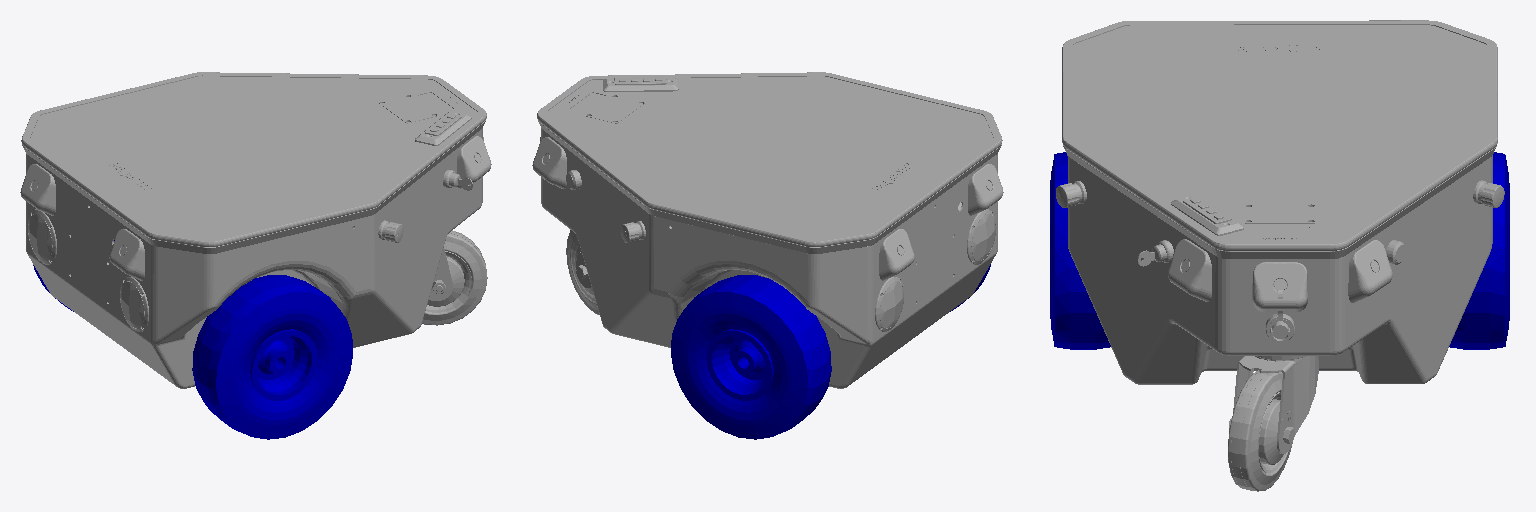
The robot description file, URDF, robot "gripper_2":
<?xml version="1.0"?>
<robot name="gripper_2" >

<!-- Materials -->

    <material name="Neobotix/Black">
        <color rgba="0.0 0.0 0.0 1.0"/>
    </material>

    <material name="Neobotix/Blue">
        <color rgba="0.0 0.0 0.8 1.0"/>
    </material>

    <material name="Neobotix/Green">
        <color rgba="0.0 0.8 0.0 1.0"/>
    </material>

    <material name="Neobotix/Grey">
        <color rgba="0.7 0.7 0.7 1.0"/>
    </material>

    <material name="Neobotix/Grey2">
        <color rgba="0.9 0.9 0.9 1.0"/>
    </material>

    <material name="Neobotix/Red">
        <color rgba="0.8 0.0 0.0 1.0"/>
    </material>

    <material name="Neobotix/White">
        <color rgba="1.0 1.0 1.0 1.0"/>
    </material>
    
    <material name="Neobotix/Yellow">
        <color rgba="1.0 1.0 0 10" />
    </material>

    <material name="Schunk/LightGrey">
        <color rgba="0.7 0.7 0.7 1.0"/>
    </material>

    <material name="Schunk/DarkGrey">
        <color rgba="0.4 0.4 0.4 1.0"/>
    </material>

    <material name="Schunk/Black">
        <color rgba="0.0 0.0 0.0 1.0"/>
    </material>

    <material name="Schunk/DarkGolden">
        <color rgba="0.4 0.4 0.3 1.0"/>
    </material>

    <material name="Schunk/Blue">
        <color rgba="0.0 0.0 0.8 1.0"/>
    </material>


<!--++++++++++++++++++++++++++++++base_link++++++++++++++++++++++++++++++++++++++++++++++++++++--> 
<!--++++++++++++++++++++body++++++++++++++++++++++++++++--> 
  <link name="base_link">
       <inertial>
           <mass value="67.010" />
	       <origin xyz="0 0 0.216" rpy="0 0 0"/>
	       <inertia ixx="0.54" ixy="0.0" ixz="0.0" iyy="1.08" iyz="0.0" izz="1.23" />
       </inertial>
       <visual>
        <!--origin xyz="0.0 0.0 0.234" rpy="0 0 1.57" /--><!-- for cylinder -->
	       <origin xyz="-0.160 0.0 0.09" rpy="0 0 -1.57" />
           <geometry>
               <mesh filename="meshes/MP500-BODY.STL" scale="0.01 0.01 0.01"/>
	    	<!--cylinder length="0.381" radius="0.2545"/-->
	    	<!--box size="0.445 0.277 0.17"/-->
           </geometry>
           <material name="Neobotix/Grey" />
       </visual>
       <collision name='body_collision'>
           <origin xyz="-0.160 0.0 0.09" rpy="0 0 -1.57" />
           <geometry>
               <mesh filename="meshes/MP500-BODY.STL" scale="0.01 0.01 0.01"/>
               <!--<box size="0.814 0.592 0.4225"/>-->
          <!--cylinder length="0.381" radius="0.2545"/-->
           </geometry>
       </collision>
  </link>

<!--+++++++++++++++++++wheel_left_link++++++++++++++++++++++++--> 
   <link name="wheel_left_link" type="wheel">
      <inertial>
      	   <mass value="1.5" />
     	   <origin xyz="0 0 0" rpy="0 0 0" />
      	   <inertia ixx="0.0045" ixy="0" ixz="0" iyy="0.0078" iyz="0" izz="0.0045" />
      </inertial>
      <visual>
     	<origin xyz="0 0 0" rpy="0 0 -1.57" />
     	<geometry>
            <mesh filename="meshes/MP500-WHEEL.STL" scale="0.01 0.01 0.01" />
     	</geometry>
     	<material name="Neobotix/Blue" />
      </visual>

      <collision>
     	<origin xyz="0 0 0" rpy="0 1.57 -1.57" />
     	<geometry>
        	<cylinder radius="0.124" length="0.085"/>
     	</geometry>
      </collision>
   </link>

<!--+++++++++++++++++++wheel_left_joint++++++++++++++++++++++++--> 
  <joint name="wheel_left_joint" type="continuous">
     <origin xyz="-0.155 0.255 0.13" rpy="0 0 0" />
     <axis xyz="0 1 0"/>
     <limit effort="10000.0" lower="-1e+16" upper="1e+16" velocity="11.6"/>
     <joint_properties damping="0.0" friction="0.0" />
     <parent link="base_link" />
     <child link="wheel_left_link" />
  </joint>

  <!--<transmission name="wheel_left_joint_transmission" type="SimpleTransmission">-->
    <!--<type>transmission_interface/SimpleTransmission</type>-->
    <!--<joint name="wheel_left_joint">-->
      <!--<hardwareInterface>EffortJointInterface</hardwareInterface>-->
    <!--</joint>-->
    <!--<actuator name="wheel_left_joint_motor">-->
      <!--<hardwareInterface>EffortJointInterface</hardwareInterface>-->
      <!--<mechanicalReduction>1</mechanicalReduction>-->
    <!--</actuator>-->
  <!--</transmission>-->

<!--+++++++++++++++++++wheel_right_link++++++++++++++++++++++++--> 

  <link name="wheel_right_link" type="wheel">
     <inertial>
         <mass value="1.5" />
         <origin xyz="0 0 0" rpy="0 0 0" />
		  <!--inertia ixx="0.0051" ixy="0" ixz="0" iyy="0.0051" iyz="0" izz="0.009" /-->
         <inertia ixx="0.0045" ixy="0" ixz="0" iyy="0.0078" iyz="0" izz="0.0045" />
     </inertial>

     <visual>
         <origin xyz="0 0 0" rpy="0 0 -1.57" />
         <geometry>
             <mesh filename="meshes/MP500-WHEEL.STL" scale="0.01 0.01 0.01" />
         </geometry>
         <material name="Neobotix/Blue" />
     </visual>
     <collision>
         <origin xyz="0 0 0" rpy="0 1.57 -1.57" />
         <geometry>
             <cylinder radius="0.124" length="0.085"/>
	     </geometry>
     </collision>
  </link>

<!--+++++++++++++++++++wheel_right_joint++++++++++++++++++++++++-->
   <joint name="wheel_right_joint" type="continuous">
       <origin xyz="-0.155 -0.255 0.13" rpy="0 0 0" />
       <axis xyz="0 1 0"/>
       <limit effort="10000.0" lower="-1e+16" upper="1e+16" velocity="11.6"/>
       <joint_properties damping="0.0" friction="0.0" />
       <parent link="base_link" />
       <child link="wheel_right_link" />
   </joint>

   <!--<transmission name="wheel_right_joint_transmission" type="SimpleTransmission">-->
    <!--<type>transmission_interface/SimpleTransmission</type>-->
    <!--<joint name="wheel_right_joint">-->
      <!--<hardwareInterface>EffortJointInterface</hardwareInterface>-->
    <!--</joint>-->
    <!--<actuator name="wheel_right_joint_motor">-->
      <!--<hardwareInterface>EffortJointInterface</hardwareInterface>-->
      <!--<mechanicalReduction>1</mechanicalReduction>-->
    <!--</actuator>-->
   <!--</transmission>-->


<!--+++++++++++++++++++laserscanner_front_joint++++++++++++++++++++++++-->
   <joint name="laserscanner_front_joint" type="fixed">
       <axis xyz="0 0 1" />
       <origin xyz="-0.39 0 0.281" rpy="0 0 0" />
       <parent link="base_link"/>
       <child link="laserscanner_front_link"/>
   </joint>

<!--+++++++++++++++++++laserscanner_front_link++++++++++++++++++++++++-->
    <link name="laserscanner_front_link" type="laser">
	<inertial>
		<mass value="0.001" />
		<origin xyz="0 0 0" rpy="3.14 0 -1.57" />
		<inertia ixx="0.001" ixy="0" ixz="0" iyy="0.001" iyz="0" izz="0.001" />
    </inertial>
    <visual>
		<origin xyz="0 0 -0.04" rpy="3.14 0 -1.57" />
		<geometry>
            <mesh filename="meshes/SICK-S300.STL" />
		</geometry>
		<material name="Neobotix/Yellow" />
  	</visual>
    <collision>
		<origin xyz="0 0 0" rpy="3.14 0 -1.57" />
		<geometry>
            <cylinder length="0.154" radius="0.053" />
		</geometry>
  	</collision>
    </link>

<!--+++++++++++++++ wheel_hanger+++++++++++++++++++++++++++-->
   <link name="hanger">
      <inertial>
		  <mass value="0.001" />
		  <origin xyz="0 0 0" rpy="0 0 0" />
		  <inertia ixx="0.0013" ixy="0" ixz="0" iyy="0.0013" iyz="0" izz="0.0013" />
      </inertial>
      <visual>
          <origin xyz="0 0 0" rpy="0 0 -1.57" />
          <geometry>
              <mesh filename="meshes/HANGER-WHEEL.STL" scale="0.01 0.01 0.01" />
	      </geometry>
          <material name="Neobotix/Grey" />
	  </visual>
      <collision>
		 <origin xyz="0 0 0" rpy="0 0 -1.57" />
		 <geometry>
             <mesh filename="meshes/HANGER-WHEEL.STL" scale="0.01 0.01 0.01" />
          	<!--<sphere radius="0.00852"/>-->
		 </geometry>
      </collision>
   </link>

<!--+++++++++++++++ wheel_hanger_joint +++++++++++++++++++++++++++-->
   <joint name="hanger_joint" type="fixed">
    	<origin xyz="0.255 0 0.10" rpy="0 0 0"/>
    	<axis xyz="0 0 1"/>
    	<limit effort="10000.0" lower="-1e+16" upper="1e+16" velocity="13.5"/>
    	<joint_properties damping="0.0" friction="0.0" />
    	<parent link="base_link" />
    	<child link="hanger" />
   </joint>



<!--+++++++++++++++ arm_podest_joint +++++++++++++++++++++++++++-->
   <joint name="arm_podest_joint" type="fixed">
      <origin xyz="0.19 0 0.36" rpy="0 0 0" />
      <parent link="base_link"/>
      <child link="arm_podest_link"/>
   </joint>

<!--+++++++++++++++ arm_podest_link +++++++++++++++++++++++++++-->
  <link name="arm_podest_link">
      <inertial>
          <mass value="0.01" />
          <origin xyz="0 0 0" />
          <inertia ixx="0.001" ixy="0.0" ixz="0.0" iyy="0.001" iyz="0.0" izz="0.001" />
      </inertial>
      <visual>
          <geometry>
              <mesh filename="meshes/arm_podest_link.stl"/>
          </geometry>
          <material name="Schunk/LightGrey"/>
      </visual>
      <collision>
          <geometry>
              <mesh filename="meshes/arm_podest_link.stl"/>
          </geometry>
      </collision>
  </link>

<!--+++++++++++++++ arm_base_joint +++++++++++++++++++++++++++-->
   <joint name="arm_base_joint" type="fixed">
        <origin xyz="0 0 0.140" rpy="0 0 0" />
        <axis xyz="0 0 1"/>
        <parent link="arm_podest_link"/>
        <child link="arm_base_link"/>
   </joint>

<!--+++++++++++++++ arm_base_link +++++++++++++++++++++++++++-->
   <link name="arm_base_link">
      <inertial>
          <mass value="0.01" />
          <origin xyz="0 0 0" />
          <inertia ixx="0.001" ixy="0.0" ixz="0.0" iyy="0.001" iyz="0.0" izz="0.001" />
      </inertial>
   </link>

<!--+++++++++++++++joint between arm_base_link and arm_1_link +++++++++++++++-->
    <joint name="arm_1_joint" type="revolute">
        <origin xyz="0 0 0" rpy="0 0 0" />
        <axis xyz="0 0 1"/>
        <parent link="arm_base_link"/>
        <child link="arm_1_link"/>
        <limit effort="216" velocity="0.43633" lower="-3.1215926" upper="3.1215926"/>
    </joint>


<!--+++++++++++++++ arm_1_link+++++++++++++++-->
   <link name="arm_1_link">
       <inertial>
           <mass value="0.01" />
           <origin xyz="0 0 0" />
           <inertia ixx="0.001" ixy="0.0" ixz="0.0" iyy="0.001" iyz="0.0" izz="0.001" />
       </inertial>
       <visual>
           <geometry>
               <mesh filename="meshes/arm_1_link.stl"/>
           </geometry>
           <material name="Schunk/LightGrey"/>
       </visual>
       <collision>
           <geometry>
               <mesh filename="meshes/arm_1_link.stl"/>
           </geometry>
       </collision>
   </link>

<!-- +++++++++++++++joint between arm_1_link and arm_2_link +++++++++++++++-->
    <joint name="arm_2_joint" type="revolute">
      <origin xyz="0 0 0.24" rpy="-1.5707963 -1.5707963 0"/>
      <axis xyz="0 0 1"/>
      <parent link="arm_1_link"/>
      <child link="arm_2_link"/>
      <limit effort="216" velocity="0.43633" lower="-2.12" upper="2.12"/>
    </joint>


<!--+++++++++++++++ arm_2_link +++++++++++++++-->
    <link name="arm_2_link">
        <inertial>
            <mass value="0.01" />
            <origin xyz="0 0 0" />
            <inertia ixx="0.001" ixy="0.0" ixz="0.0" iyy="0.001" iyz="0.0" izz="0.001" />
        </inertial>
        <visual>
            <geometry>
                <mesh filename="meshes/arm_2_link.stl"/>
            </geometry>
            <material name="Schunk/Black"/>
        </visual>
        <collision>
            <geometry>
                <mesh filename="meshes/arm_2_link_collision.stl"/>
            </geometry>
        </collision>
    </link>

<!--+++++++++++++++ joint between arm_2_link and arm_3_link +++++++++++++++-->
    <joint name="arm_3_joint" type="revolute">
      <origin xyz="0 0 0" rpy="1.5707963 0 1.5707963"/>
      <axis xyz="0 0 1"/>
      <parent link="arm_2_link"/>
      <child link="arm_3_link"/>
      <limit effort="81.5" velocity="0.4189" lower="-3.1215926" upper="3.1215926"/>
    </joint>


<!--+++++++++++++++ arm_3_link +++++++++++++++-->
   <link name="arm_3_link">
       <inertial>
           <mass value="0.01" />
           <origin xyz="0 0 0" />
           <inertia ixx="0.001" ixy="0.0" ixz="0.0" iyy="0.001" iyz="0.0" izz="0.001" />
       </inertial>
       <visual>
           <geometry>
               <mesh filename="meshes/arm_3_link.stl"/>
           </geometry>
           <material name="Schunk/LightGrey"/>
       </visual>
       <collision>
           <geometry>
               <mesh filename="meshes/arm_3_link_collision.stl"/>
           </geometry>
       </collision>
   </link>

<!--+++++++++++++++ joint between arm_3_link and arm_4_link +++++++++++++++-->
    <joint name="arm_4_joint" type="revolute">
      <origin xyz="0 0 0.328" rpy="-1.5707963 -1.5707963 0"/>
      <axis xyz="0 0 1"/>
      <parent link="arm_3_link"/>
      <child link="arm_4_link"/>
      <limit effort="81.5" velocity="0.4189" lower="-2.16" upper="2.16"/>
    </joint>


<!--+++++++++++++++arm_4_link +++++++++++++++-->
    <link name="arm_4_link">
        <inertial>
            <mass value="0.01" />
            <origin xyz="0 0 0" />
            <inertia ixx="0.001" ixy="0.0" ixz="0.0" iyy="0.001" iyz="0.0" izz="0.001" />
        </inertial>
        <visual>
            <geometry>
                <mesh filename="meshes/arm_4_link.stl"/>
            </geometry>
            <material name="Schunk/Black"/>
        </visual>
        <collision>
            <geometry>
                <mesh filename="meshes/arm_4_link_collision.stl"/>
            </geometry>
        </collision>
    </link>

<!--+++++++++++++++ joint between arm_4_link and arm_5_link+++++++++++++++ -->
    <joint name="arm_5_joint" type="revolute">
      <origin xyz="0 0 0" rpy="1.5707963 0 1.5707963"/>
      <axis xyz="0 0 1"/>
      <parent link="arm_4_link"/>
      <child link="arm_5_link"/>
      <limit effort="20.7" velocity="0.43633" lower="-3.1215926" upper="3.1215926"/>
    </joint>


<!-- +++++++++++++++arm_5_link +++++++++++++++-->
    <link name="arm_5_link">
        <inertial>
            <mass value="0.01" />
            <origin xyz="0 0 0" />
            <inertia ixx="0.001" ixy="0.0" ixz="0.0" iyy="0.001" iyz="0.0" izz="0.001" />
        </inertial>
        <visual>
            <geometry>
                <mesh filename="meshes/arm_5_link.stl"/>
            </geometry>
            <material name="Schunk/LightGrey"/>
        </visual>
        <collision>
            <geometry>
                <mesh filename="meshes/arm_5_link_collision.stl"/>
            </geometry>
        </collision>
    </link>

<!--+++++++++++++++ joint between arm_5_link and arm_6_link +++++++++++++++-->
    <joint name="arm_6_joint" type="revolute">
      <origin xyz="0 0 0.323" rpy="-1.5707963 -1.5707963 0"/>
      <axis xyz="0 0 1"/>
      <parent link="arm_5_link"/>
      <child link="arm_6_link"/>
      <limit effort="15" velocity="1.2566" lower="-2.07" upper="2.07"/>
    </joint>


<!--+++++++++++++++ arm_6_link +++++++++++++++-->
    <link name="arm_6_link">
        <inertial>
            <mass value="0.01" />
            <origin xyz="0 0 0" />
            <inertia ixx="0.001" ixy="0.0" ixz="0.0" iyy="0.001" iyz="0.0" izz="0.001" />
        </inertial>
        <visual>
            <geometry>
                <mesh filename="meshes/arm_6_link.stl"/>
            </geometry>
            <material name="Schunk/Black"/>
        </visual>
        <collision>
            <geometry>
                <mesh filename="meshes/arm_6_link_collision.stl"/>
            </geometry>
        </collision>
     </link>

<!--+++++++++++++++ joint between arm_6_link and arm_7_link+++++++++++++++ -->
    <joint name="arm_7_joint" type="revolute">
      <origin xyz="0 0 0" rpy="1.5707963 0 1.5707963"/>
      <axis xyz="0 0 1"/>
      <parent link="arm_6_link"/>
      <child link="arm_7_link"/>
      <limit effort="15" velocity="1.2566" lower="-2.94" upper="2.94"/>
    </joint>


<!--+++++++++++++++arm_7_link +++++++++++++++-->
    <link name="arm_7_link">
        <inertial>
            <mass value="0.01" />
            <origin xyz="0 0 0" />
            <inertia ixx="0.001" ixy="0.0" ixz="0.0" iyy="0.001" iyz="0.0" izz="0.001" />
        </inertial>
        <visual>
            <geometry>
                <mesh filename="meshes/arm_7_link.stl"/>
            </geometry>
            <material name="Schunk/LightGrey"/>
        </visual>
        <collision>
            <geometry>
                <mesh filename="meshes/arm_7_link.stl"/>
            </geometry>
        </collision>
    </link>
<!--+++++++++++++++ arm_ee_joint +++++++++++++++++++++++++++-->
    <joint name="arm_ee_joint" type="fixed">
      <origin xyz="0 0 0.0824" rpy="0 0 0"/>
      <axis xyz="0 0 1"/>
      <parent link="arm_7_link"/>
      <child link="arm_ee_link"/>
    </joint>

<!--+++++++++++++++ arm_ee_link +++++++++++++++++++++++++++-->
    <link name="arm_ee_link">
        <inertial>
            <mass value="0.01" />
            <origin xyz="0 0 0" />
            <inertia ixx="0.001" ixy="0.0" ixz="0.0" iyy="0.001" iyz="0.0" izz="0.001" />
        </inertial>
    </link>

</robot>

--- What the picture shows (computed from the rendered views, not written in the file) ---
3 views of the same robot in one strip: view 1: azimuth 30°, elevation 25°; view 2: azimuth 150°, elevation 25°; view 3: azimuth 270°, elevation 25° (orthographic).
Robot: gripper_2 — 15 links, 14 joints (7 revolute, 2 continuous, 5 fixed); root link base_link; default pose: all joints at 0.
Links seen in each view (by area): view 1: base_link, wheel_right_link, hanger; view 2: base_link, wheel_left_link, hanger; view 3: base_link, hanger, wheel_right_link, wheel_left_link.
Boxes of the visible links, <box> form: base_link: <box>20,72,491,388</box>; wheel_right_link: <box>192,275,352,439</box>; hanger: <box>422,230,487,325</box>; base_link: <box>532,72,1003,388</box>; wheel_left_link: <box>671,275,831,439</box>; hanger: <box>566,230,599,314</box>; base_link: <box>1056,20,1504,384</box>; hanger: <box>1228,356,1318,491</box>; wheel_right_link: <box>1050,152,1110,349</box>; wheel_left_link: <box>1449,152,1509,349</box>.
Size in the robot's own frame: 0.7351 by 0.5951 by 0.3837 metres.
Meshes: 12 distinct files referenced, 4 mesh visuals loaded (3 binary STL); not drawn: 9 (reference not matched to a file when rendering).